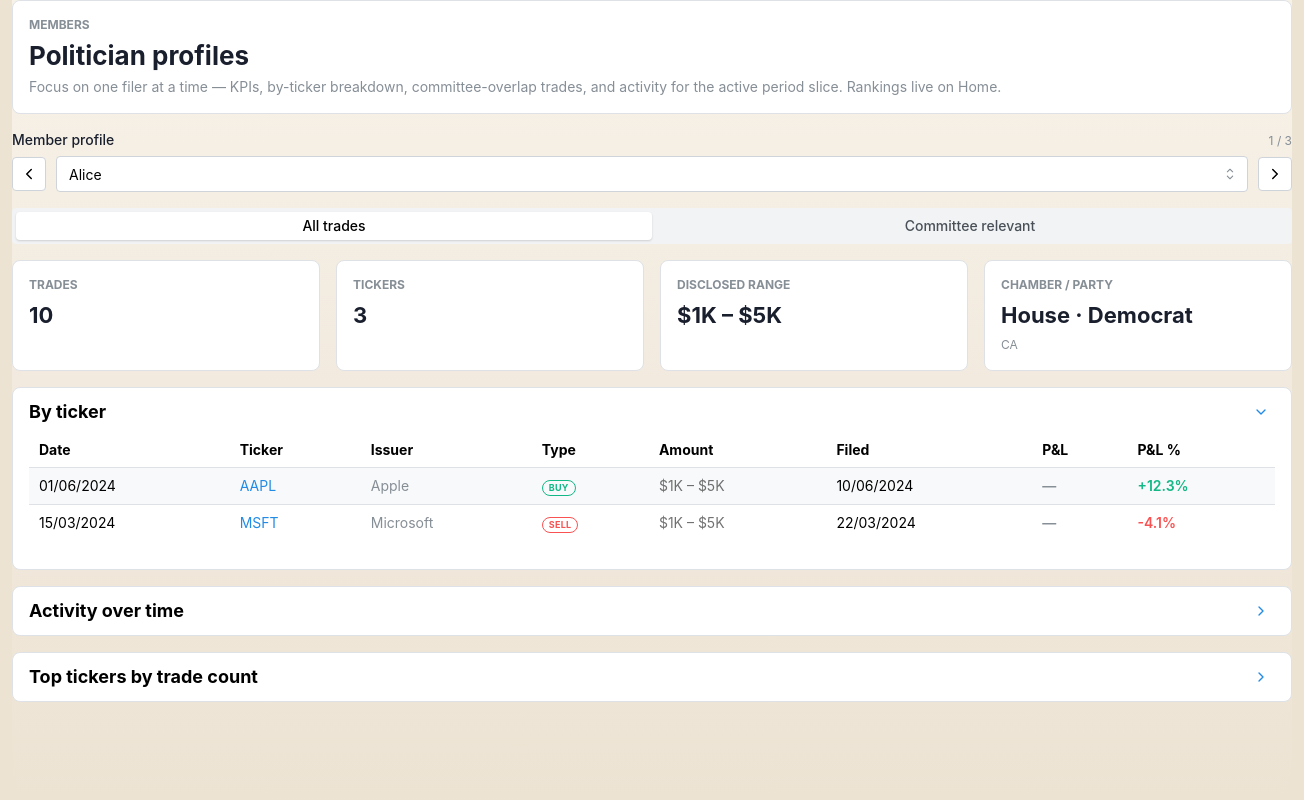
Members route › cycles members with prev/next arrows
The width and height of the screenshot is (1304, 800).
Expected: the text with test id "members-nav-position" reads "1 / 3", [1269,133,1292,150]
Click the button with test id "members-next" at (1275, 174), box [1258,158,1292,192]
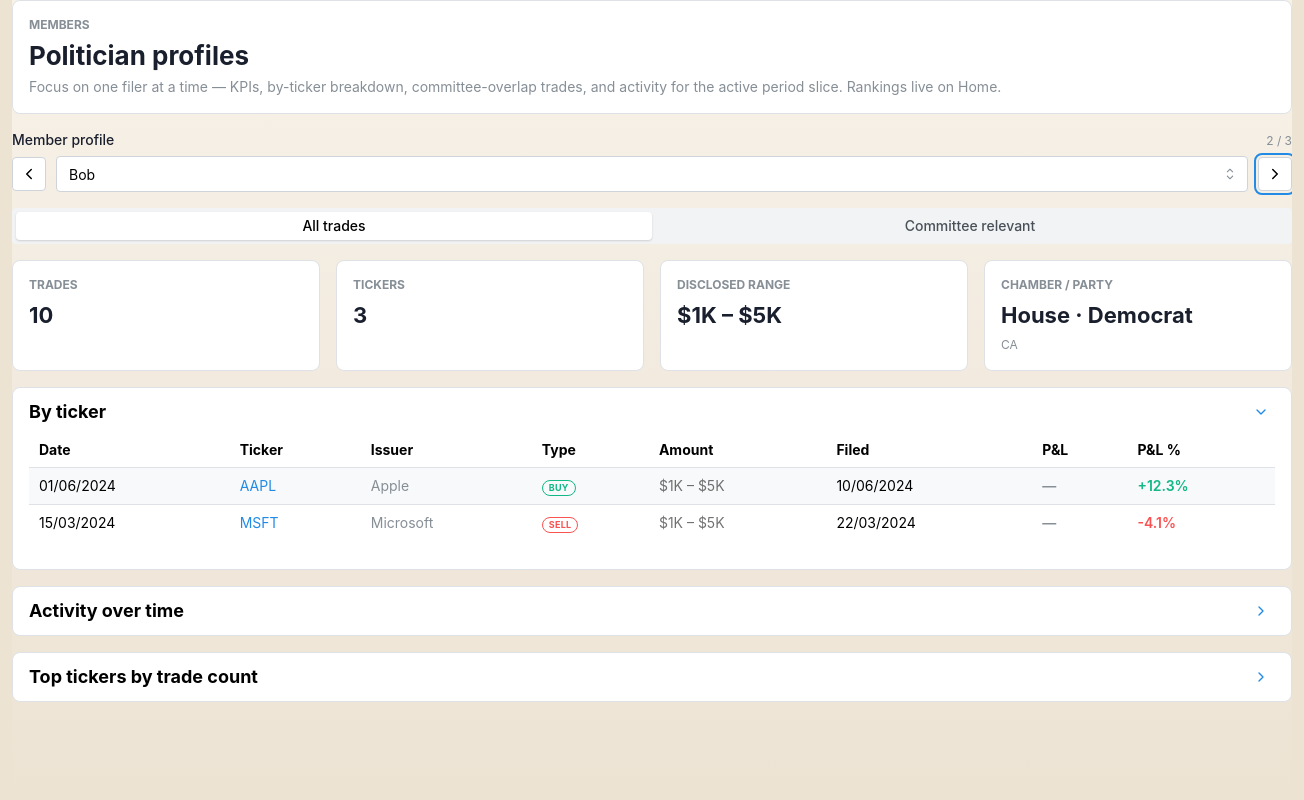
Expected: the text with test id "members-nav-position" reads "2 / 3", [1266,133,1292,150]
Expected: the field with test id "members-select" holds "Bob", [56,156,1248,192]
Click the button with test id "members-next" at (1275, 174), box [1258,158,1292,192]
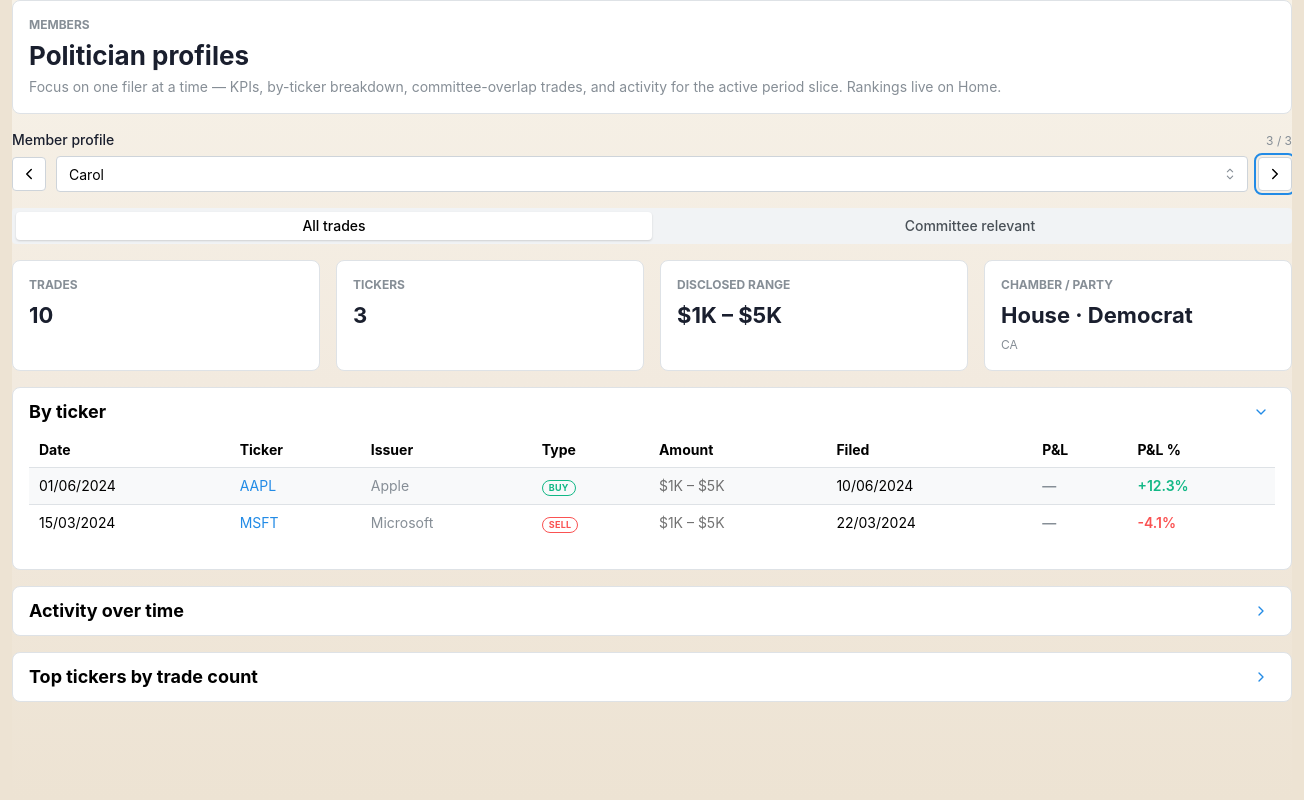
Expected: the text with test id "members-nav-position" reads "3 / 3", [1266,133,1292,150]
Expected: the field with test id "members-select" holds "Carol", [56,156,1248,192]
Click the button with test id "members-next" at (1275, 174), box [1258,158,1292,192]
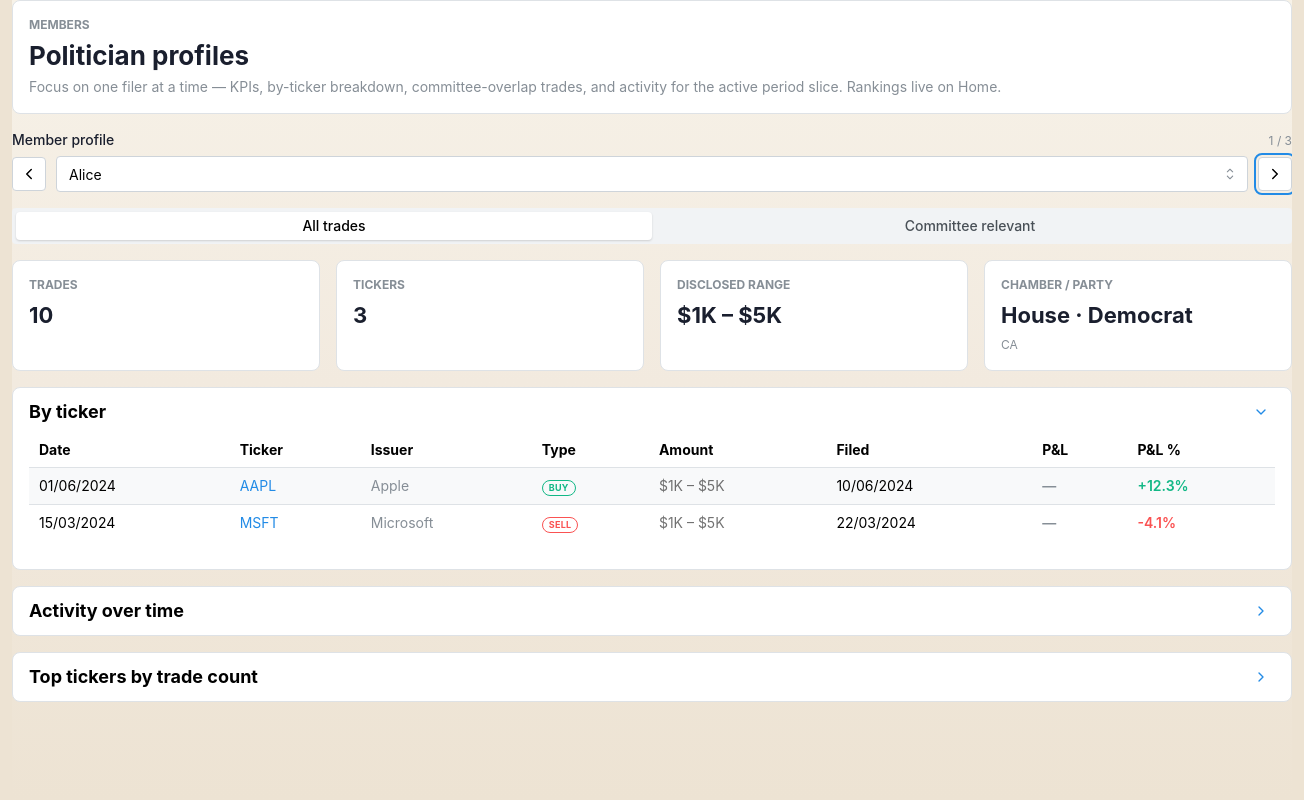
Expected: the text with test id "members-nav-position" reads "1 / 3", [1269,133,1292,150]
Expected: the field with test id "members-select" holds "Alice", [56,156,1248,192]
Click the button with test id "members-prev" at (29, 174), box [12,158,46,192]
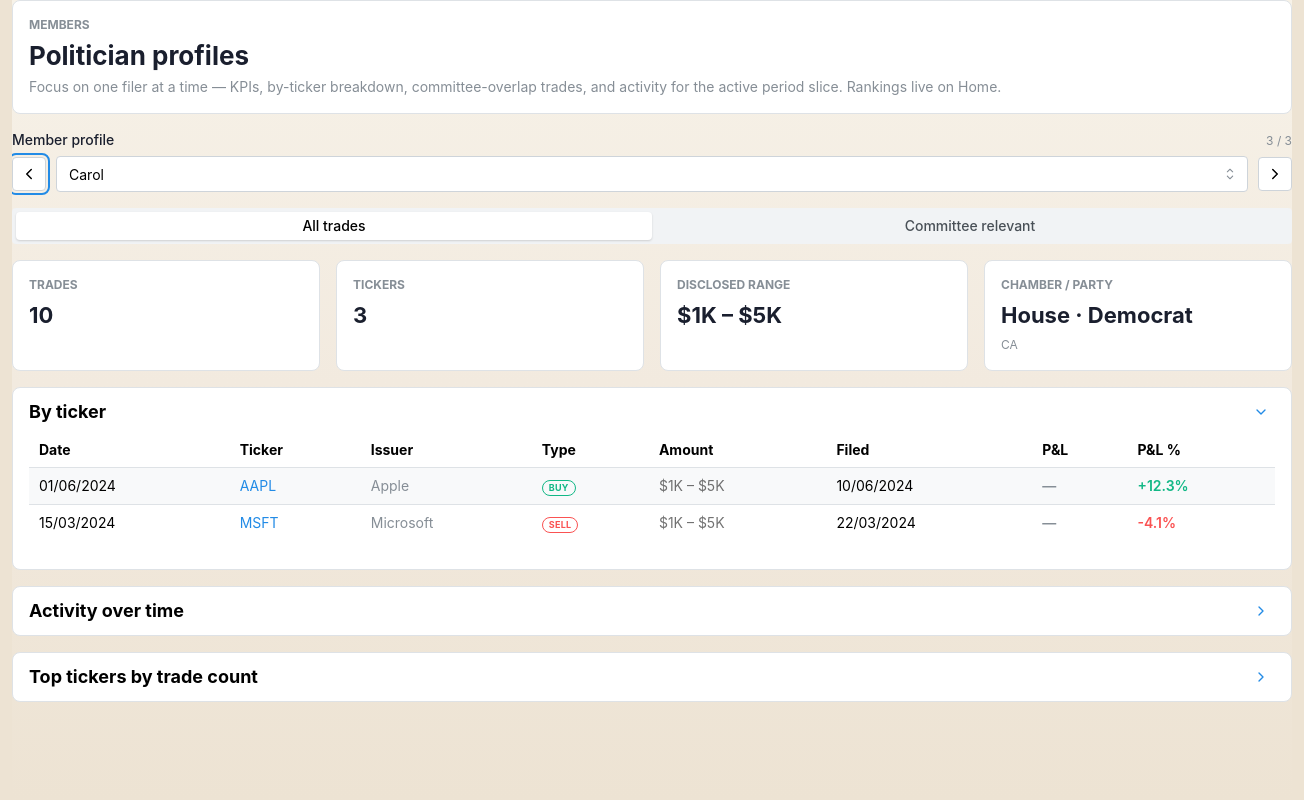
Expected: the text with test id "members-nav-position" reads "3 / 3", [1266,133,1292,150]
Expected: the field with test id "members-select" holds "Carol", [56,156,1248,192]
